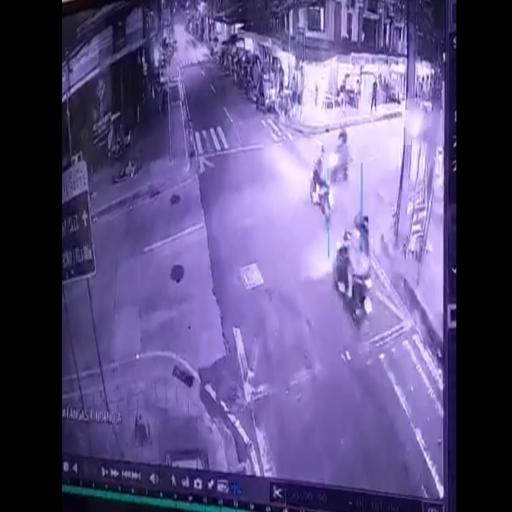Motor: (307, 142, 333, 222), (331, 127, 351, 183)
Not Accident: (305, 126, 351, 220)
